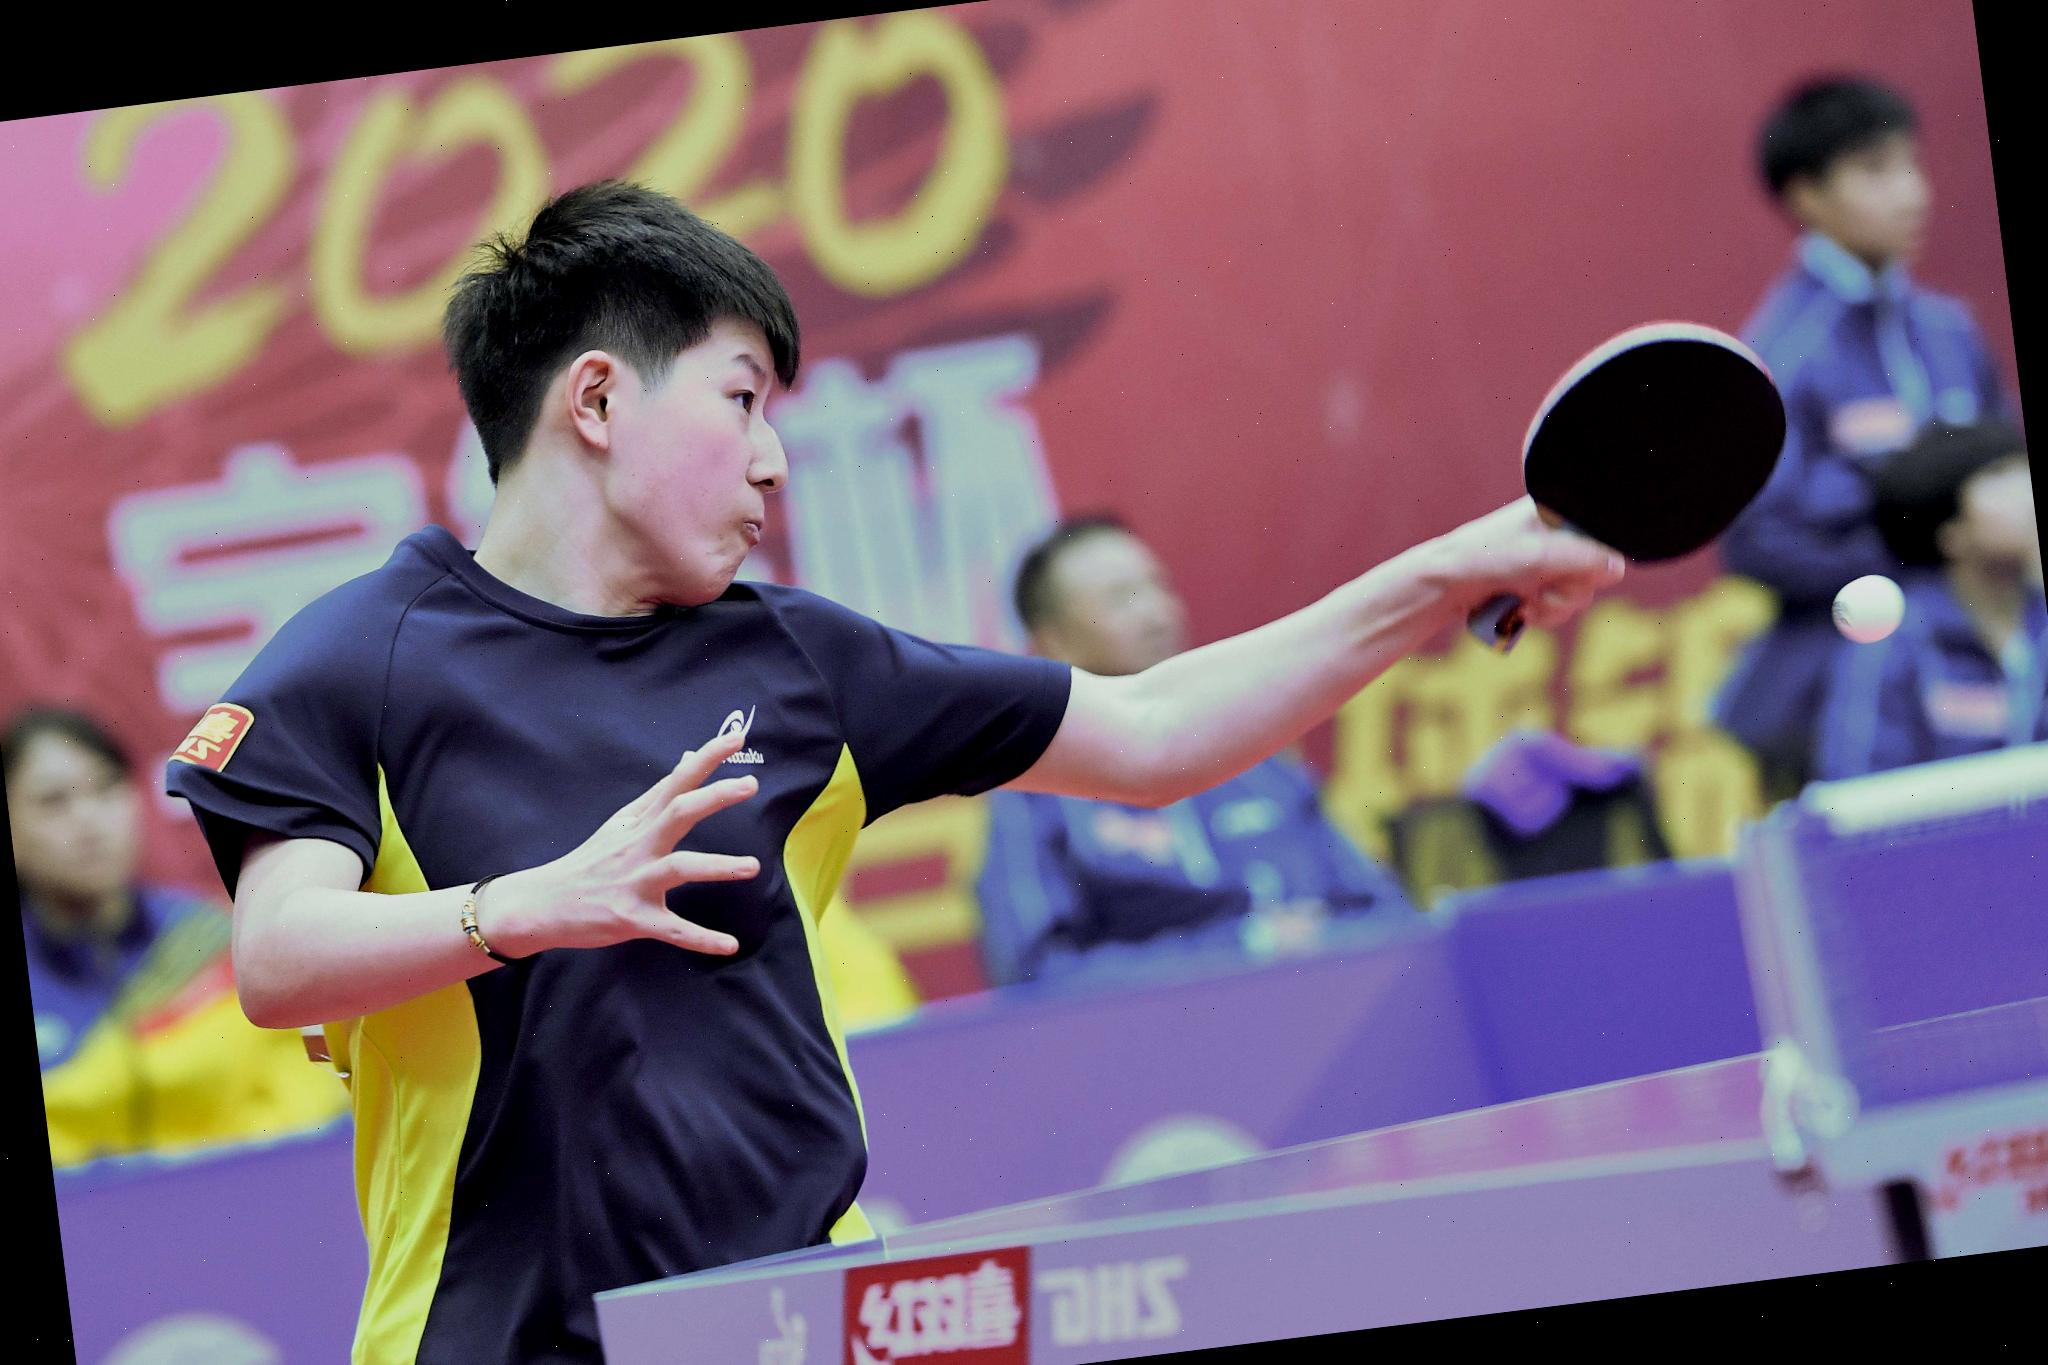ball: (1823, 564, 1916, 651)
